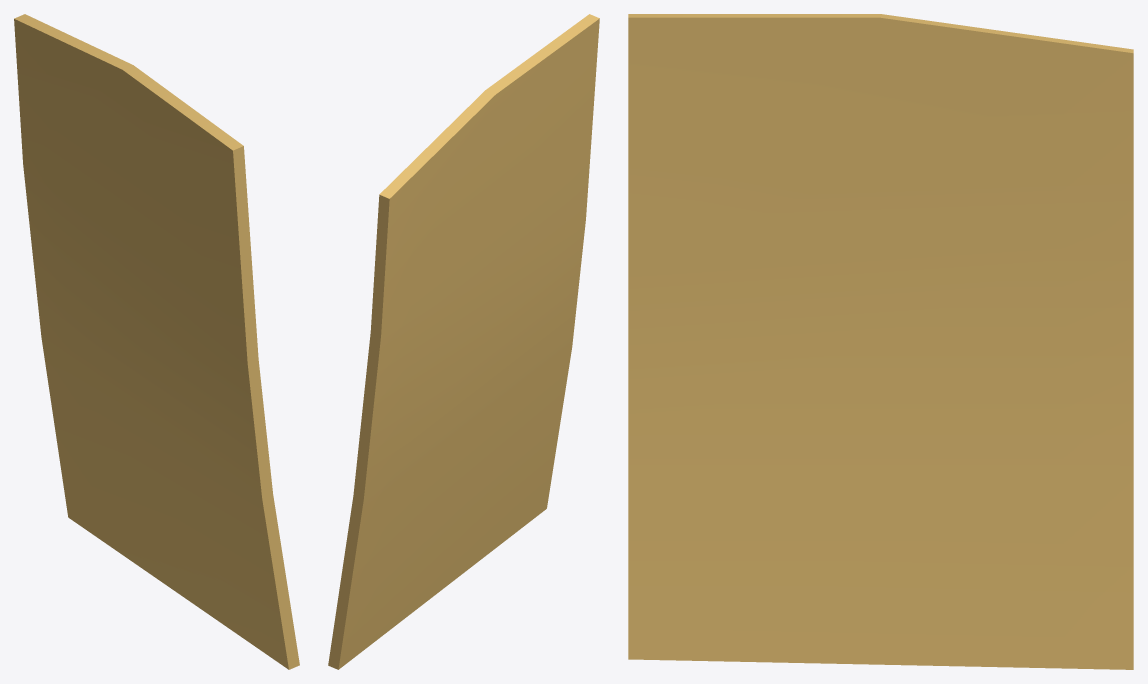
The model's file is Note_1_5.fbx.
3 renders of one model, left to right at view 1: azimuth 30°, elevation 25°; view 2: azimuth 150°, elevation 25°; view 3: azimuth 270°, elevation 25°, orthographic. The views are drawn at different scales.
Visible parts, largest first — view 1: Note_1_5; view 2: Note_1_5; view 3: Note_1_5.
Boxes of the visible parts, left/top/right/bottom form: Note_1_5: left=14, top=14, right=299, bottom=669; Note_1_5: left=328, top=14, right=599, bottom=669; Note_1_5: left=628, top=14, right=1133, bottom=669.
Size of the model in its own units: 3.84 by 29.76 by 21.89.
